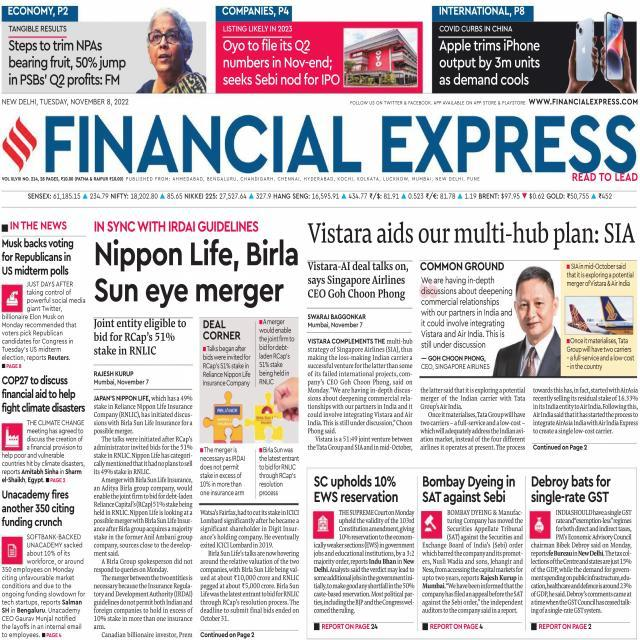Article: (89, 220, 302, 628), (304, 216, 636, 452), (306, 466, 419, 620), (528, 466, 637, 622), (419, 468, 524, 618), (0, 220, 87, 374), (0, 490, 89, 638), (2, 374, 88, 491)
Body: (92, 393, 195, 640), (306, 334, 414, 454), (198, 506, 302, 624), (528, 507, 634, 615), (311, 507, 416, 616), (420, 506, 524, 616), (1, 532, 88, 640), (419, 276, 514, 372), (0, 279, 86, 370), (418, 384, 528, 452), (531, 384, 640, 438), (0, 416, 86, 484), (198, 446, 249, 499), (258, 318, 296, 384), (565, 336, 636, 371), (256, 446, 302, 498), (565, 260, 637, 292), (202, 345, 252, 388), (306, 311, 368, 331), (92, 369, 150, 387)
Date: (0, 98, 130, 106)
Heading: (94, 237, 300, 310), (307, 218, 636, 252), (0, 374, 86, 415), (419, 473, 516, 506), (0, 236, 75, 278), (0, 488, 76, 529), (313, 472, 401, 504), (530, 473, 612, 506)
Highlights: (6, 38, 128, 89), (223, 38, 340, 88), (438, 38, 544, 87), (306, 261, 410, 301), (92, 316, 188, 356), (419, 262, 506, 272)
Image: (134, 5, 206, 94), (566, 10, 638, 93), (199, 391, 298, 443), (515, 266, 560, 376), (343, 28, 418, 86), (564, 296, 632, 334)
Name: (42, 114, 640, 175)
